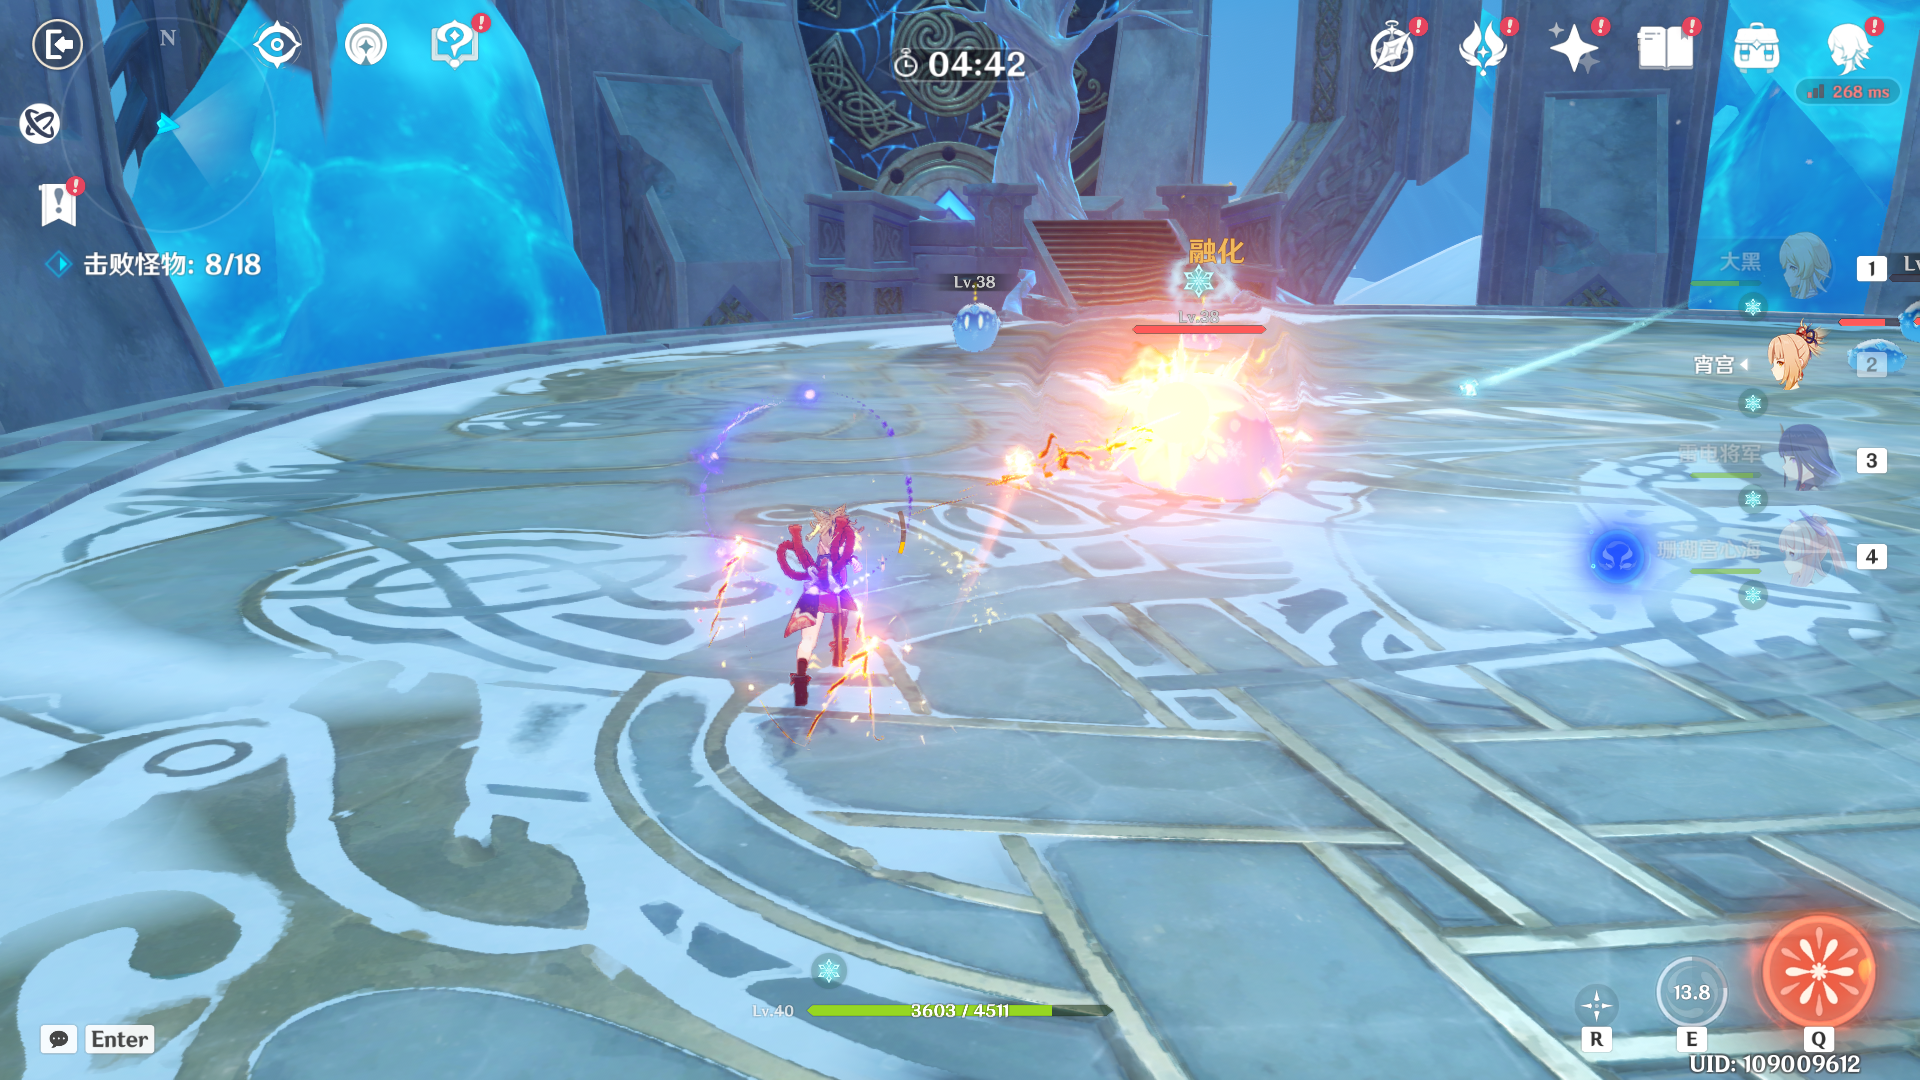character: (738, 484, 940, 741)
slime: (1072, 342, 1311, 539), (934, 294, 1015, 353)
